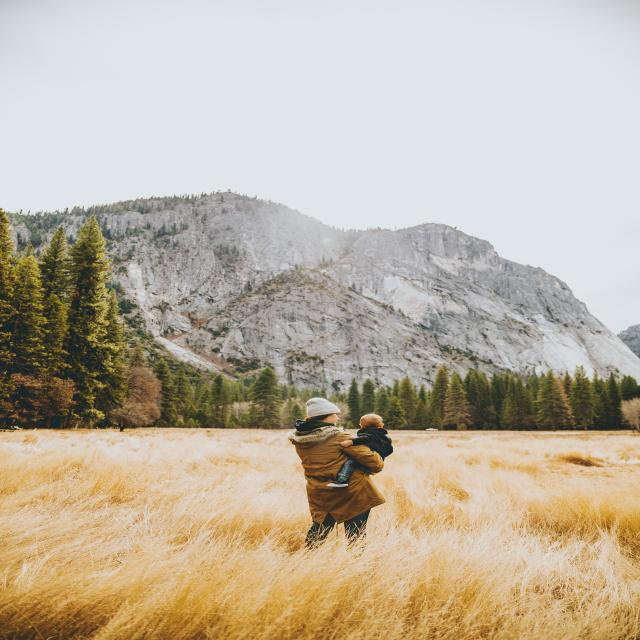adult: (289, 398, 384, 549)
child: (325, 412, 394, 488)
